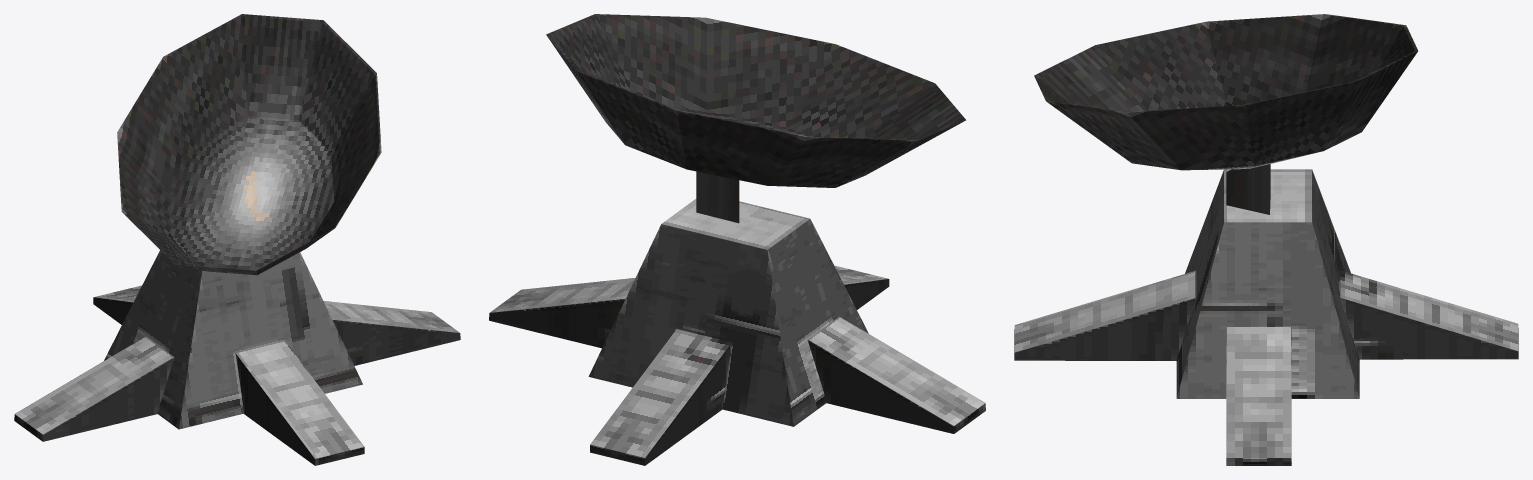
File: commlow1.obj
3 renders of one model, left to right at view 1: azimuth 30°, elevation 25°; view 2: azimuth 150°, elevation 25°; view 3: azimuth 270°, elevation 25°, orthographic. The views are drawn at different scales.
Size of the model in its own units: 14.15 by 9.63 by 12.95.
7 materials, 7 textured.
